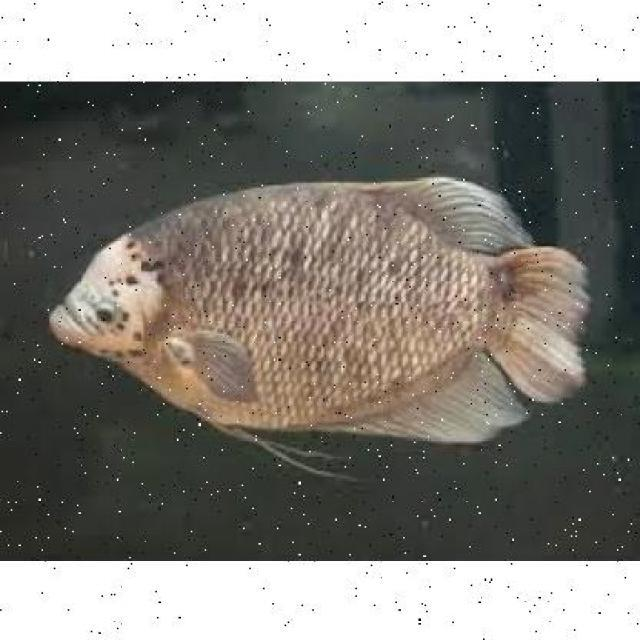gurame: (46, 178, 572, 456)
